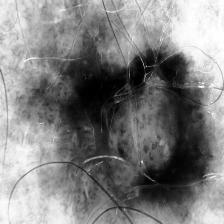Benign Marking or Mole: (98, 55, 207, 191)
